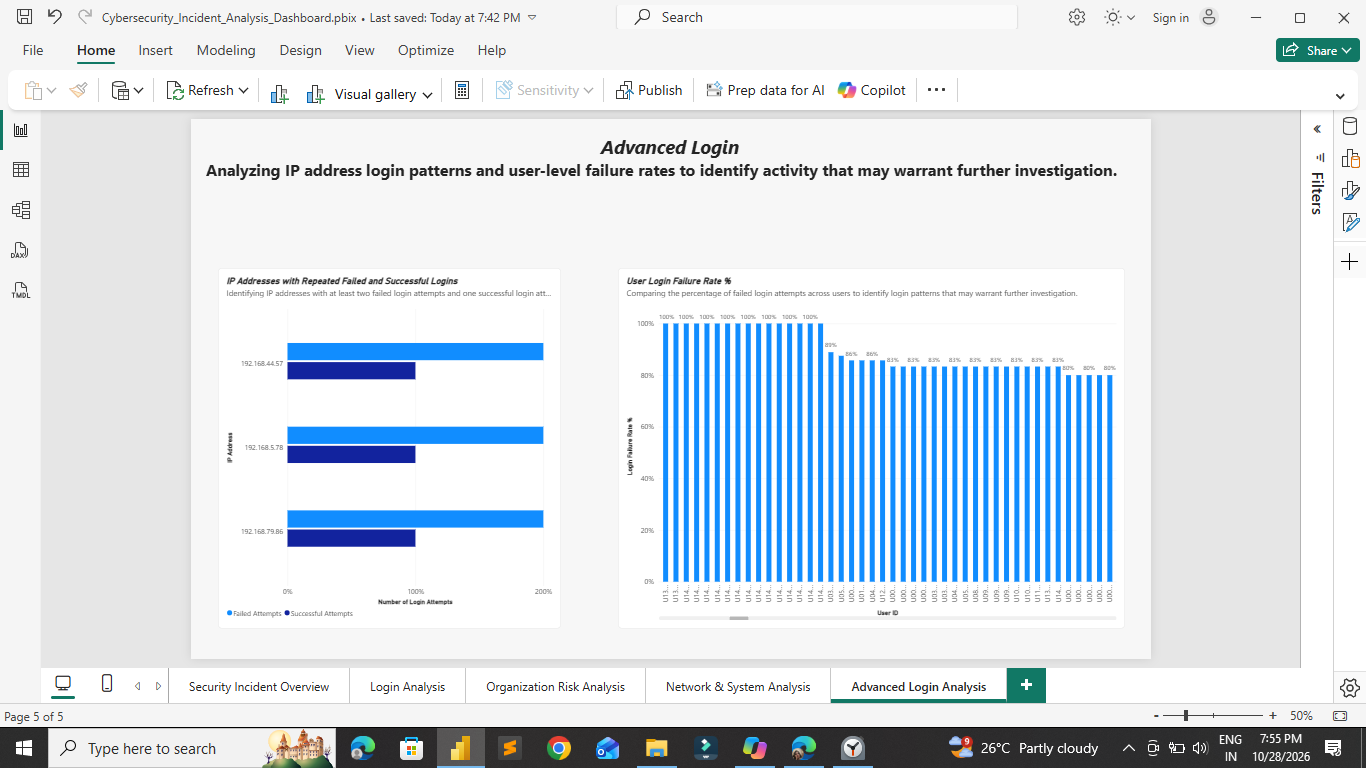

Layout of this report page (visuals, bound fields, positions):
{"tool":"powerbi","page":{"name":"Advanced Login Analysis","canvas":[1920,1080],"ordinal":4},"visuals":[{"type":"textbox","box":[29.4,29.4,1855.9,120.6],"z":0},{"type":"clusteredBarChart","title":" IP Addresses with Repeated Failed and Successful Logins","fields":{"Category":["login_logs.ip_address"],"Y":["login_logs.Failed Attempts","login_logs.Successful Attempts"]},"box":[54.8,297.6,685.7,721.4],"z":1},{"type":"clusteredColumnChart","title":"User Login Failure Rate %","fields":{"Category":["login_logs.user_id"],"Y":["login_logs.Login Failure Rate %"]},"box":[842.9,297.6,1014.3,721.4],"z":2}]}

Visuals, with their boxes on the page's 1920x1080 design canvas (x1, y1, x2, y2). These are canvas units, not pixel positions in the 1366x768 screenshot, which may show the page scaled, cropped or inside an application window:
textbox: 29 29 1885 150
" IP Addresses with Repeated Failed and Successful Logins" clusteredBarChart: 55 298 740 1019
"User Login Failure Rate %" clusteredColumnChart: 843 298 1857 1019
